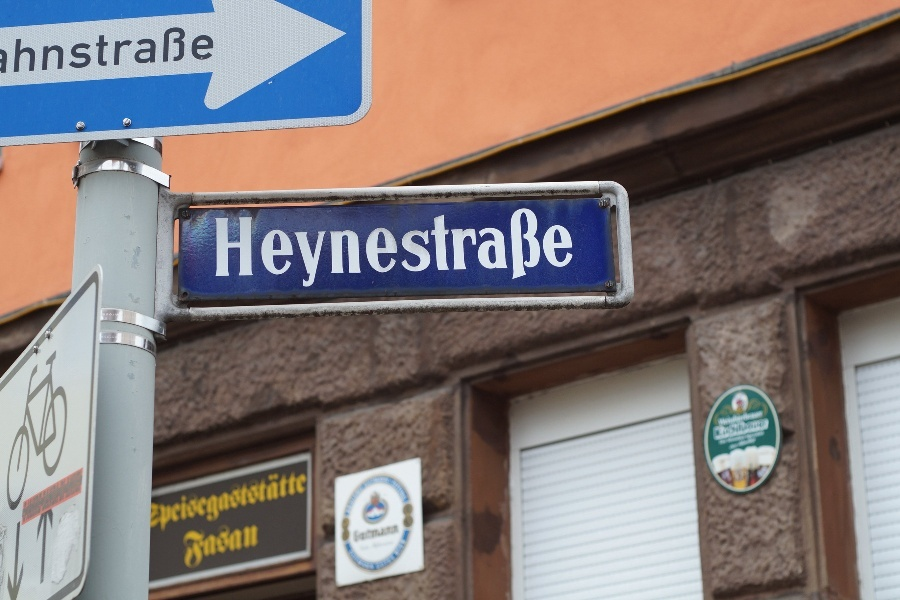text: (225, 208, 240, 292), (241, 208, 256, 292), (257, 208, 272, 292), (273, 208, 288, 292), (289, 208, 304, 292), (305, 208, 320, 292), (321, 208, 336, 292), (337, 208, 352, 292), (353, 208, 368, 292), (369, 208, 384, 292), (385, 208, 400, 292), (401, 208, 416, 292), (417, 208, 432, 292), (433, 208, 448, 292), (449, 208, 464, 292), (465, 208, 480, 292), (481, 208, 496, 292), (497, 208, 512, 292), (513, 208, 528, 292), (529, 208, 544, 292), (545, 208, 560, 292), (561, 208, 576, 292), (161, 468, 176, 538), (177, 468, 192, 538), (193, 468, 208, 538), (209, 468, 224, 538), (225, 468, 240, 538), (241, 468, 256, 538), (257, 468, 272, 538), (273, 468, 288, 538), (289, 468, 304, 538), (33, 470, 48, 524), (49, 470, 64, 524), (65, 470, 80, 524), (1, 26, 16, 78), (17, 26, 32, 78), (33, 26, 48, 78), (49, 26, 64, 78), (65, 26, 80, 78), (81, 26, 96, 78), (97, 26, 112, 78), (113, 26, 128, 78), (129, 26, 144, 78), (145, 26, 160, 78), (161, 26, 176, 78), (177, 26, 192, 78), (193, 26, 208, 78), (193, 520, 208, 571), (209, 520, 224, 571), (225, 520, 240, 571), (241, 520, 256, 571), (215, 208, 224, 292), (152, 468, 160, 538), (182, 520, 192, 571), (23, 470, 32, 524), (721, 418, 736, 442), (737, 418, 752, 442), (753, 418, 768, 442), (369, 524, 384, 543), (354, 524, 368, 543), (385, 524, 399, 543), (721, 410, 736, 427), (737, 410, 752, 427), (305, 468, 308, 538), (209, 26, 213, 78), (753, 410, 763, 427), (713, 418, 720, 442), (81, 470, 82, 524), (257, 520, 258, 571), (718, 410, 720, 427), (769, 418, 770, 442)
